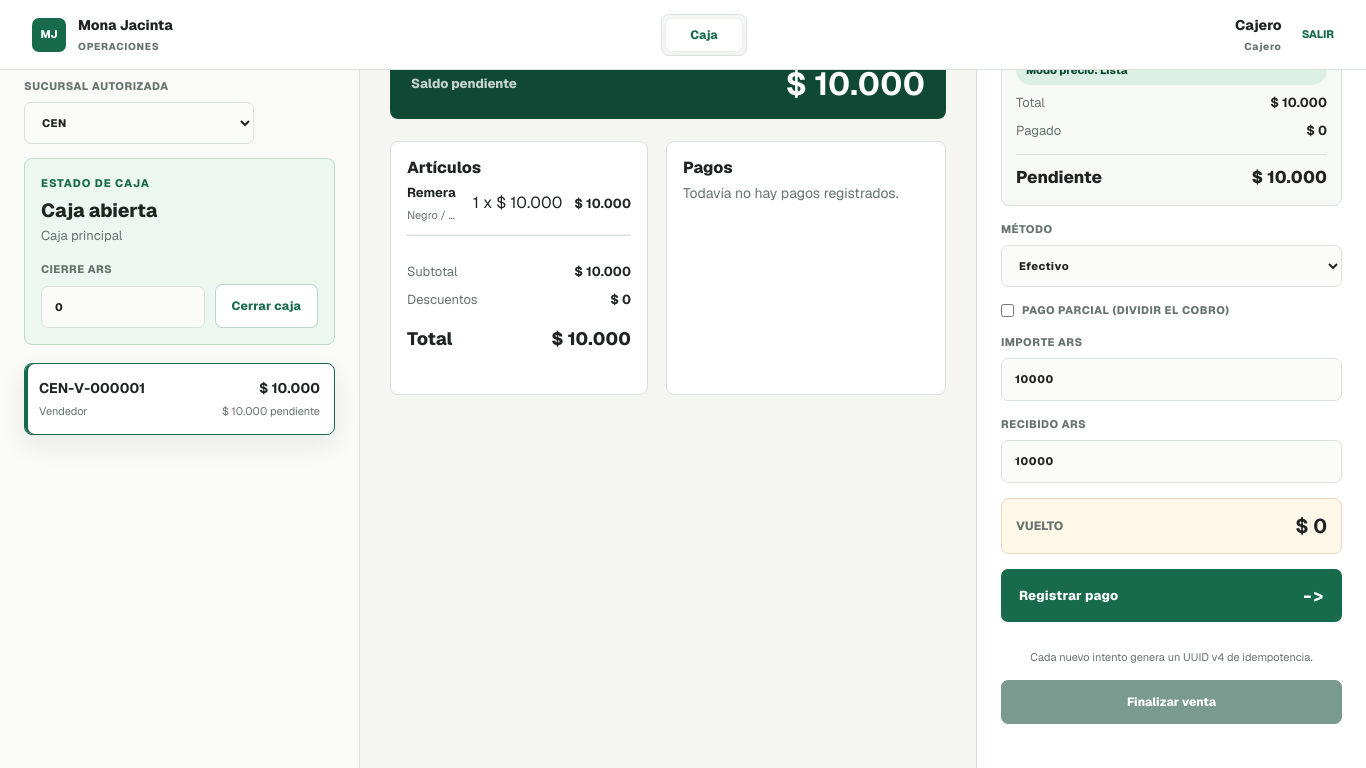
Test: M1 malformed payment answers fail closed › A15 a committed payment followed by a malformed queue is not offered as a retry
This screenshot has width=1366, height=768.
(page scrolled)
Click the button "Registrar pago ->".
click(1069, 595)  # box [1001,569,1342,622]
(page scrolled)
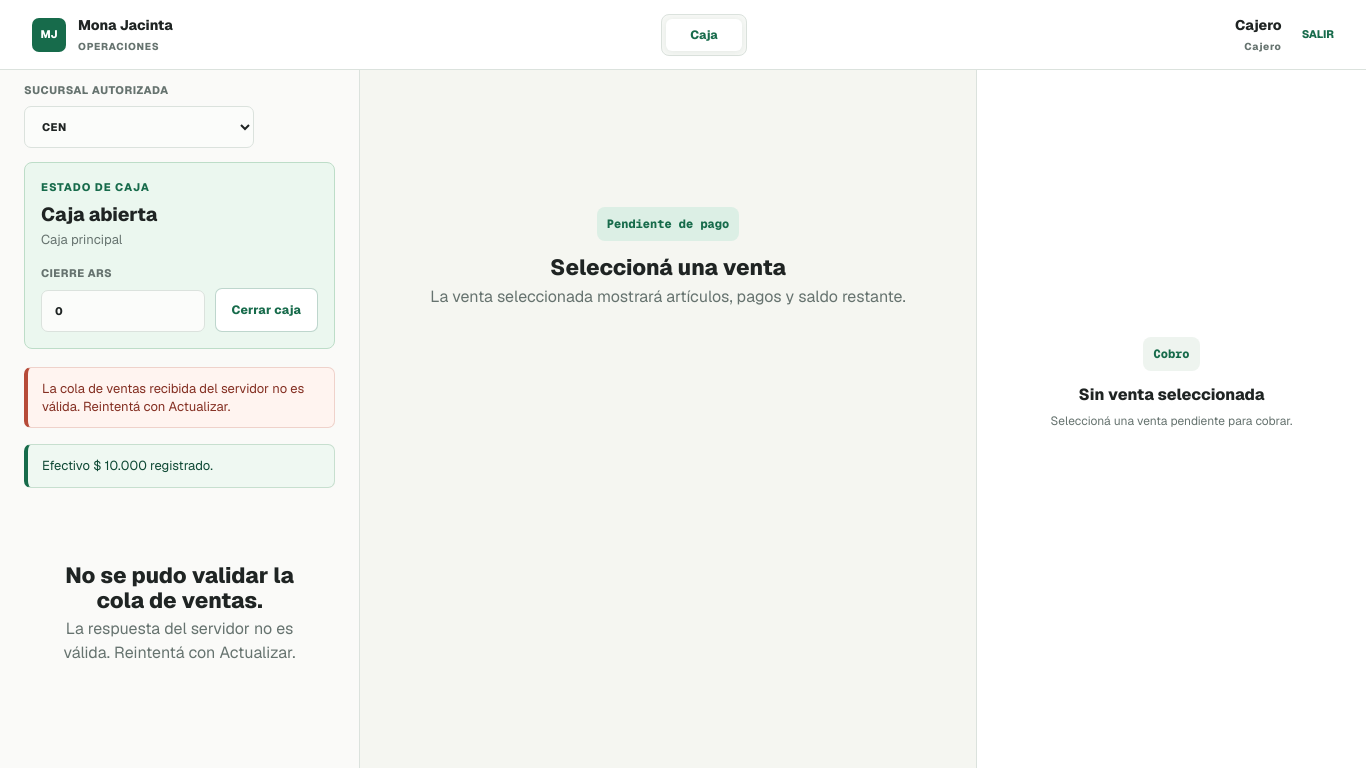
Now the text "Efectivo $ 10.000 registrado." is shown, box [24,444,335,488]
Now the heading "No se pudo validar la cola de ventas." is shown, box [48,563,311,613]
